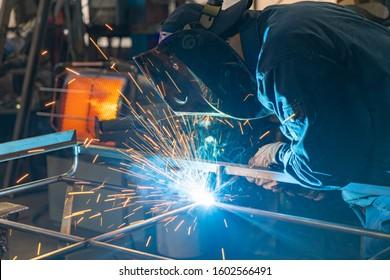gloves: (245, 141, 288, 190)
